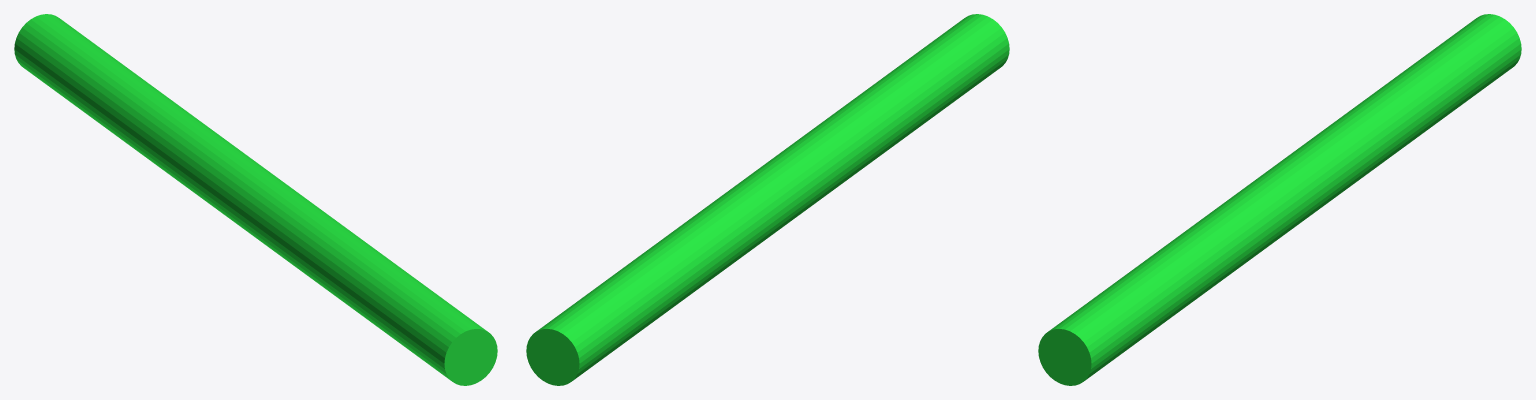
File: F2InteractablePlatform3VinesHorizontal.fbx
3 views of the same model, side by side, from view 1: azimuth 30°, elevation 25°; view 2: azimuth 150°, elevation 25°; view 3: azimuth 330°, elevation 25° (orthographic).
Visible parts, largest first — view 1: Vines.002; view 2: Vines.002; view 3: Vines.002.
Part boxes in pixels (left/top/right/bottom): Vines.002: left=14, top=14, right=497, bottom=385; Vines.002: left=526, top=14, right=1009, bottom=385; Vines.002: left=1038, top=14, right=1521, bottom=385.
Size of the model in its own units: 5 by 5 by 70.
